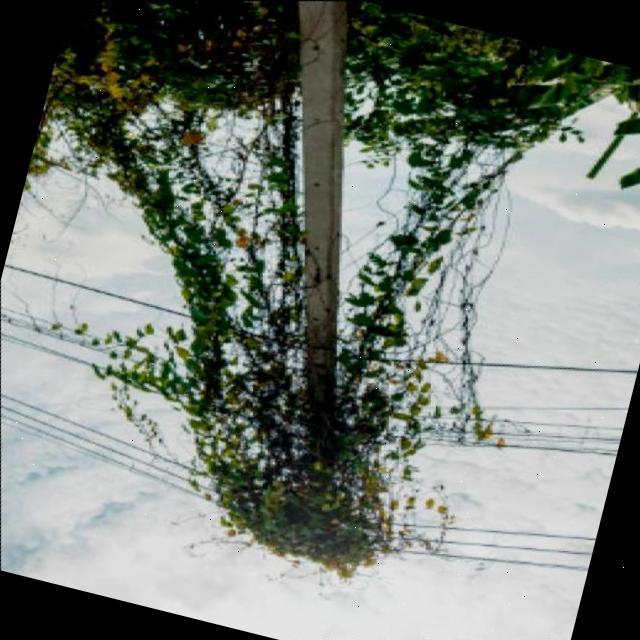critical vegetation: (71, 117, 540, 640)
